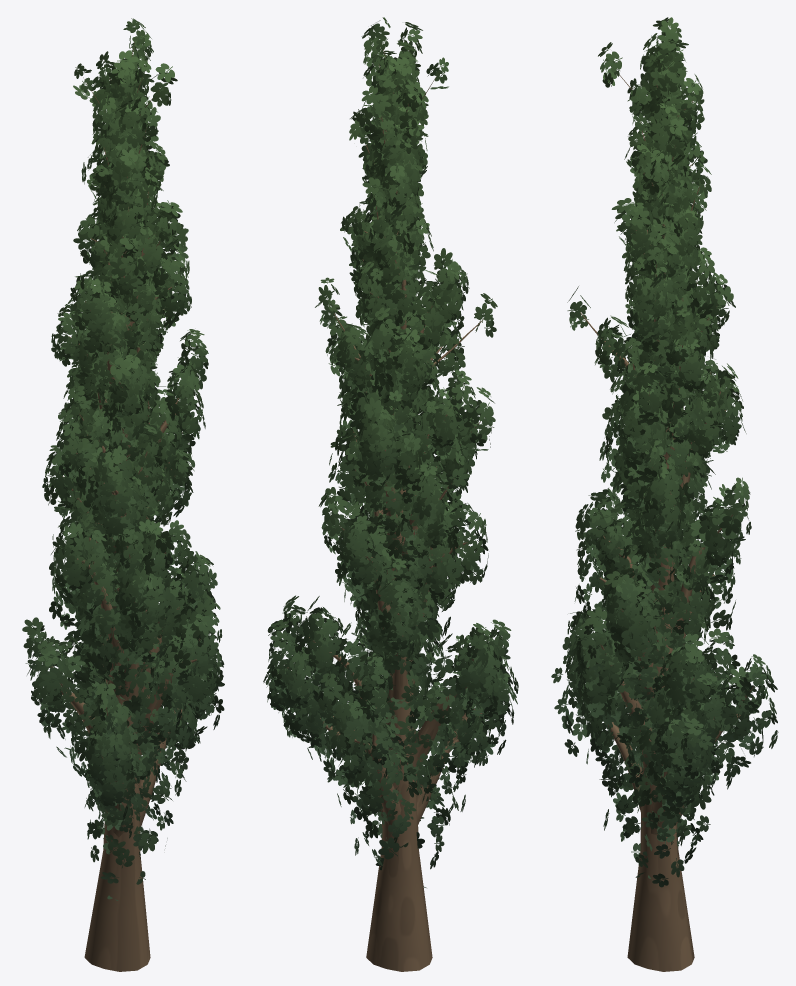
Rendered from tree.gltf.
3 renders of one model, left to right at view 1: azimuth 30°, elevation 25°; view 2: azimuth 150°, elevation 25°; view 3: azimuth 270°, elevation 25°, orthographic.
Visible parts, largest first — view 1: Tree_LOD0; view 2: Tree_LOD0; view 3: Tree_LOD0.
Part boxes in pixels (bbox=[...]): Tree_LOD0: bbox=[22, 18, 224, 971]; Tree_LOD0: bbox=[263, 17, 518, 971]; Tree_LOD0: bbox=[551, 17, 778, 971].
Bounding box in the file's own units: 7.46 × 30.49 × 6.76.
Materials: 2 (2 with a texture image).
